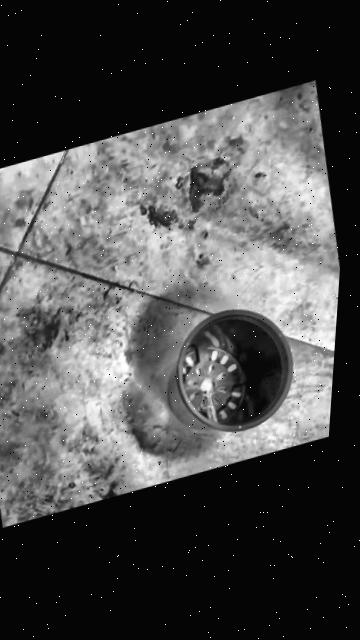pot: (150, 291, 306, 451)
